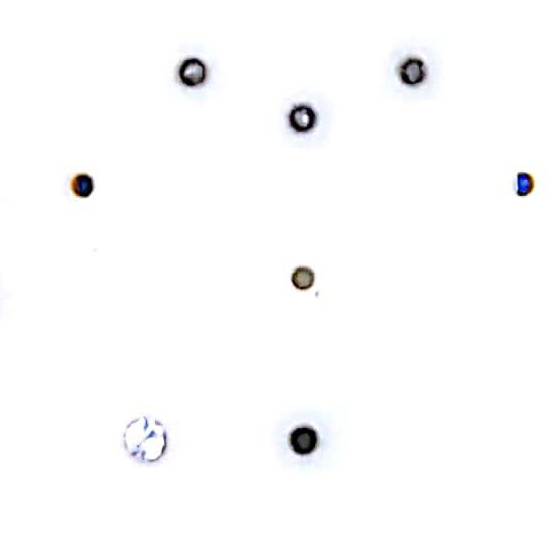abnormal: (105, 407, 177, 477)
cancer: (267, 399, 348, 478), (154, 34, 230, 108), (265, 82, 348, 149), (369, 42, 454, 107)
normal: (57, 160, 110, 214), (280, 256, 336, 307), (498, 160, 547, 205)
